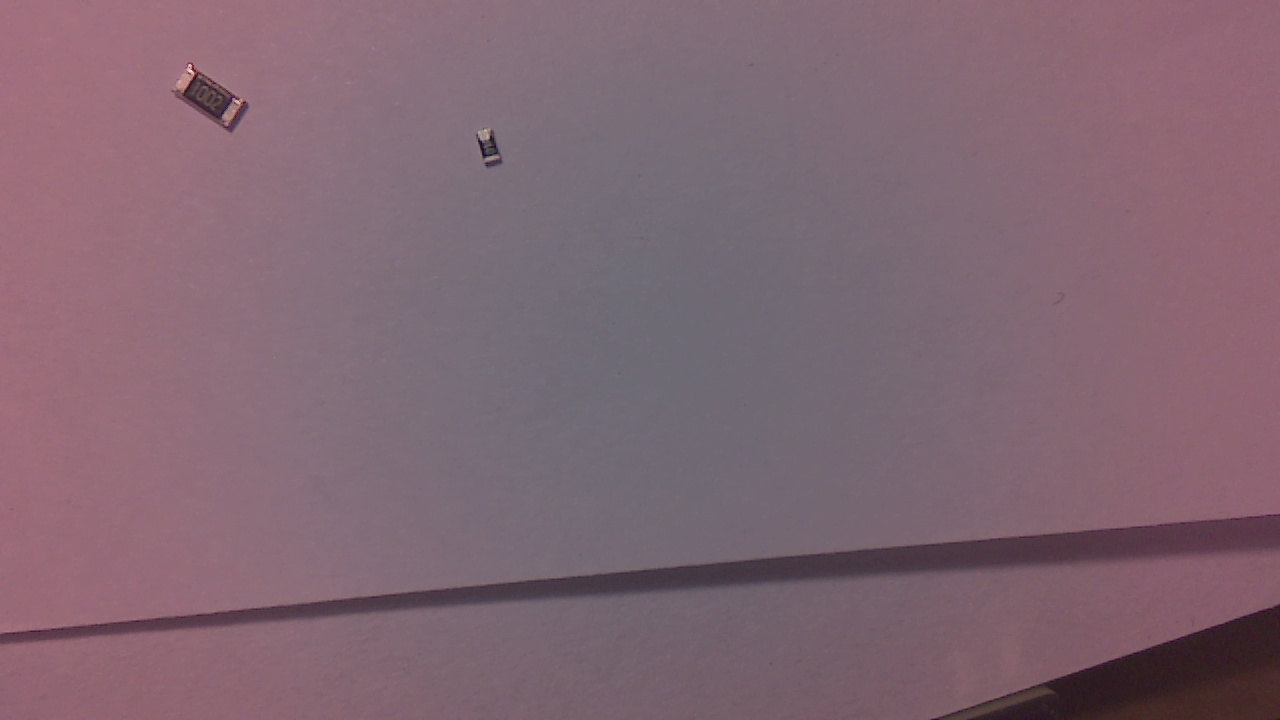Resistor: (175, 67, 256, 137), (480, 130, 509, 172)
